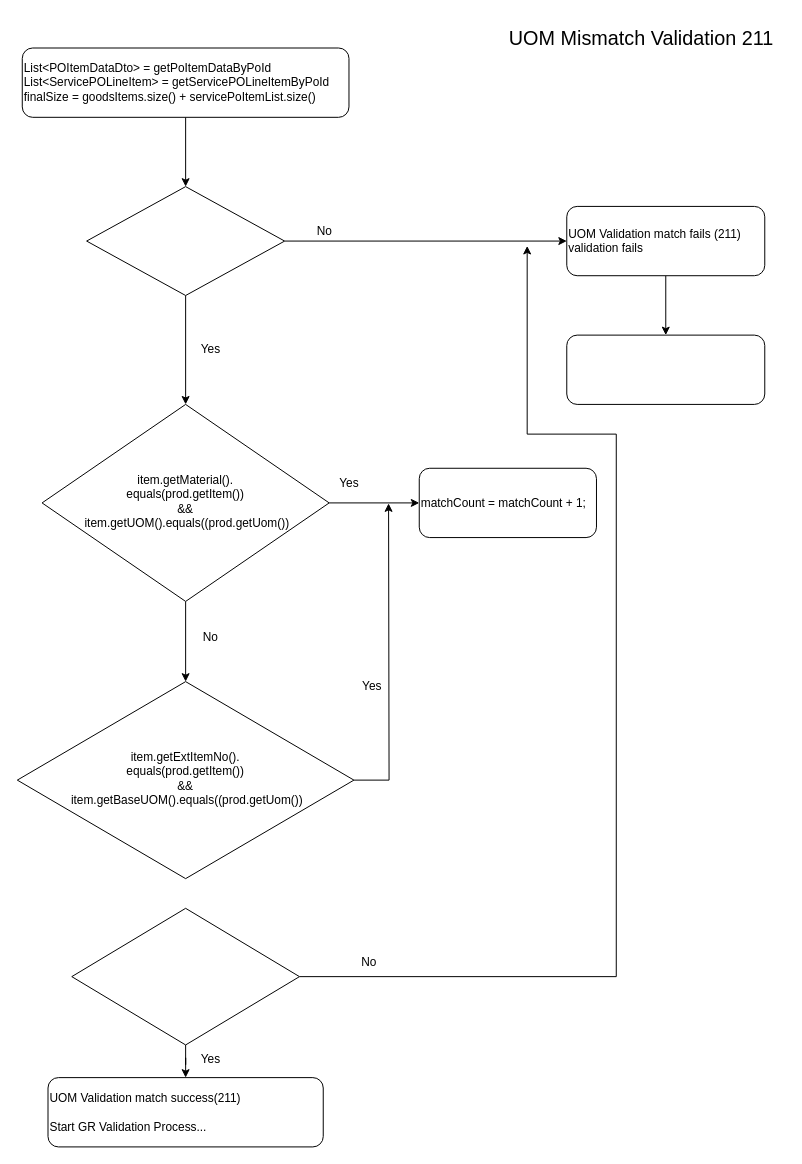
The diagram is 802 pixels wide and 1164 high, and some of its shapes have lost their labels. Each missing label, with the centre of its shape:
"finalSize == matchCount" belongs at point (185, 976).
"list size > 0" belongs at point (185, 241).
"Task assigned to Buyer" belongs at point (665, 369).
